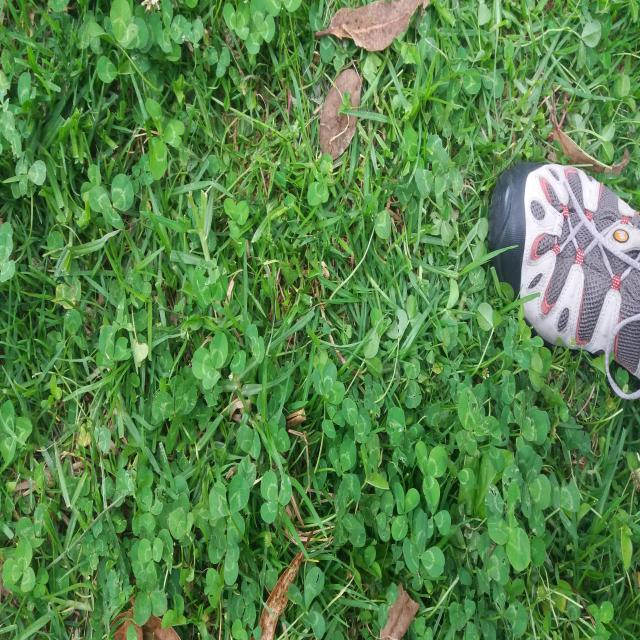Four Leaf Clover: (208, 512, 245, 586)
